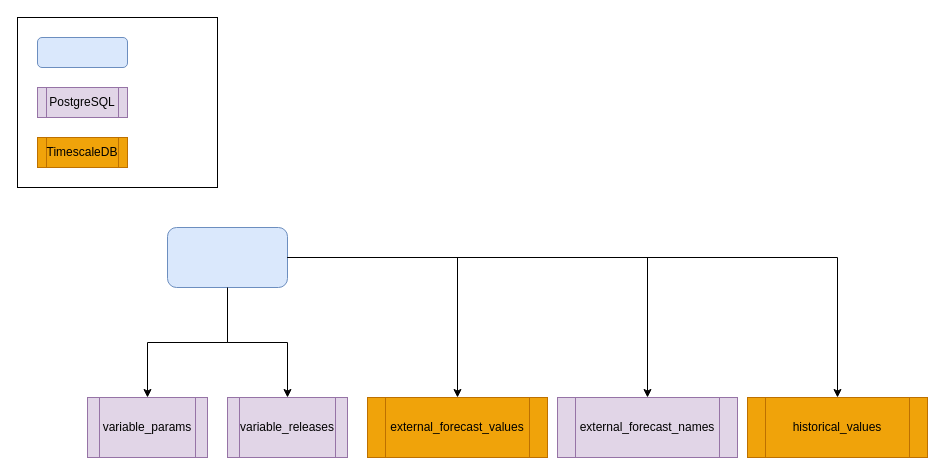
Image size: 945x475. Some labels were removed from this diagram. Here are the shapes that lost their labels. From the top down, the centre of each, then its label:
pixel 82 52: R Script
pixel 227 257: pull-data.r
